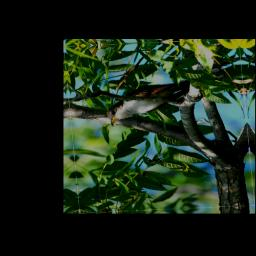Cuckoo: (103, 80, 193, 127)
